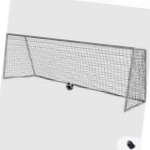goals: (1, 31, 148, 114)
